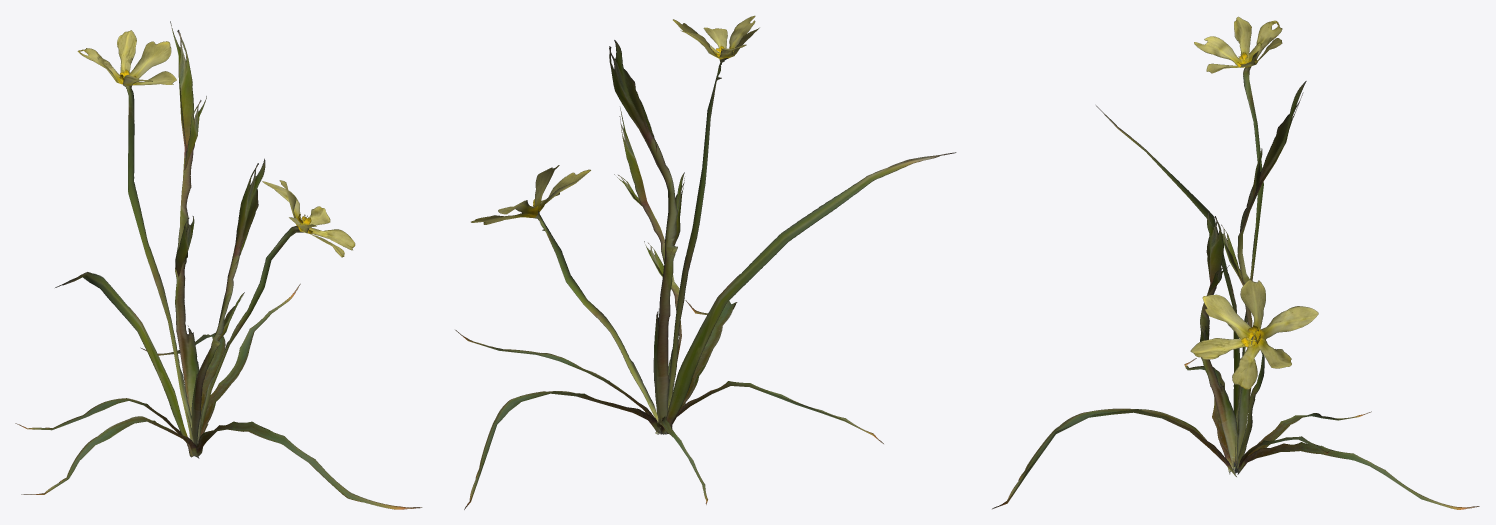
Rendered from flower_empodium_02.glb.
3 renders of one model, left to right at view 1: azimuth 30°, elevation 25°; view 2: azimuth 150°, elevation 25°; view 3: azimuth 270°, elevation 25°, orthographic. The views are drawn at different scales.
Visible parts, largest first — view 1: flower_empodium; view 2: flower_empodium; view 3: flower_empodium.
Part boxes in pixels (x1=…): flower_empodium: x1=15, y1=21, x2=422, y2=509; flower_empodium: x1=455, y1=15, x2=956, y2=509; flower_empodium: x1=992, y1=16, x2=1479, y2=509.
Bounding box in the file's own units: 0.1815 × 0.1905 × 0.2047.
Materials: 1 (1 with a texture image).
